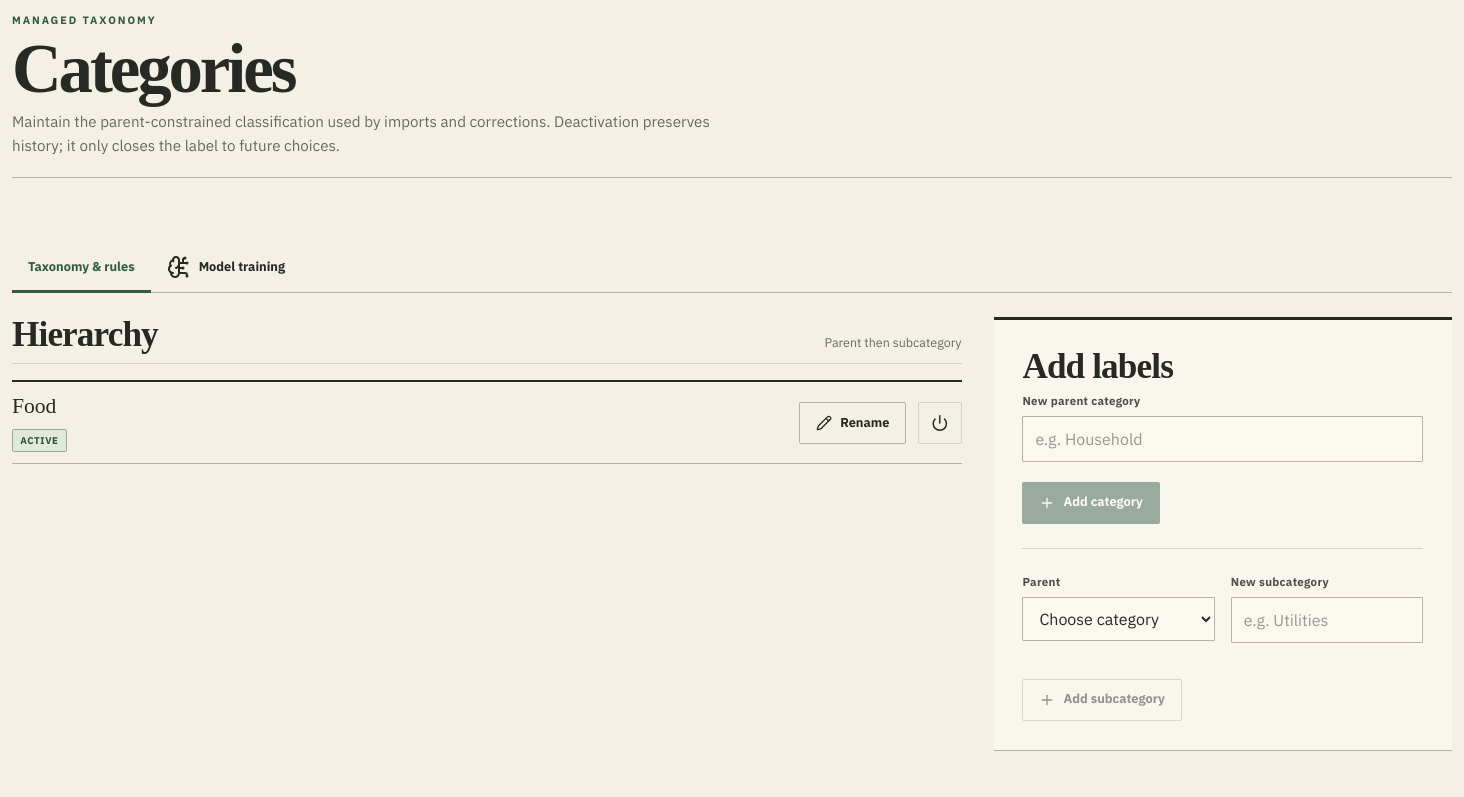
CategoriesPage failures › retains create drafts and rename state when requests fail
In the field labelled "New parent category": point(1223, 439) [1022,416,1423,462], type "Travel"
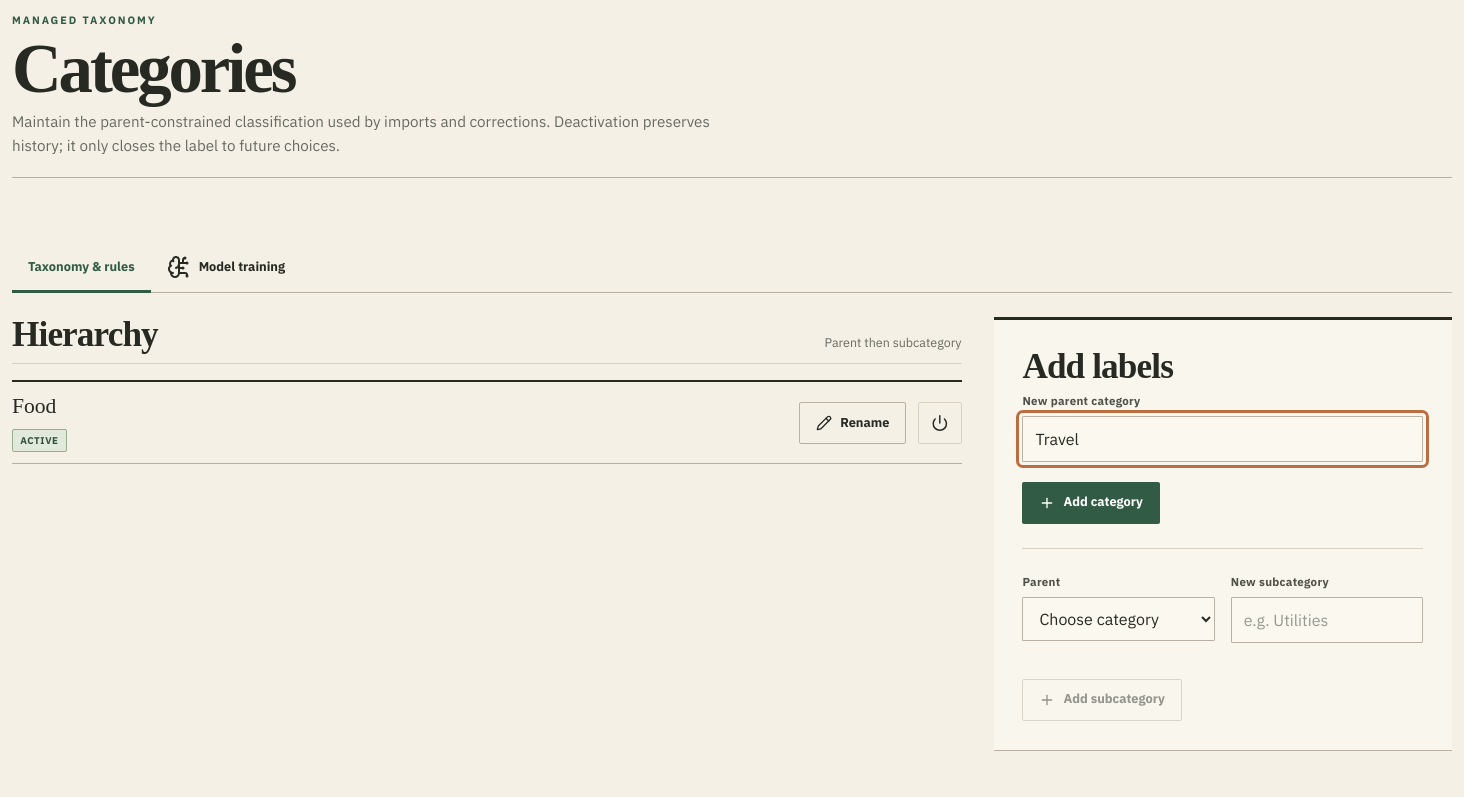
Click the button "Add category": point(1091, 503) [1022,482,1160,524]
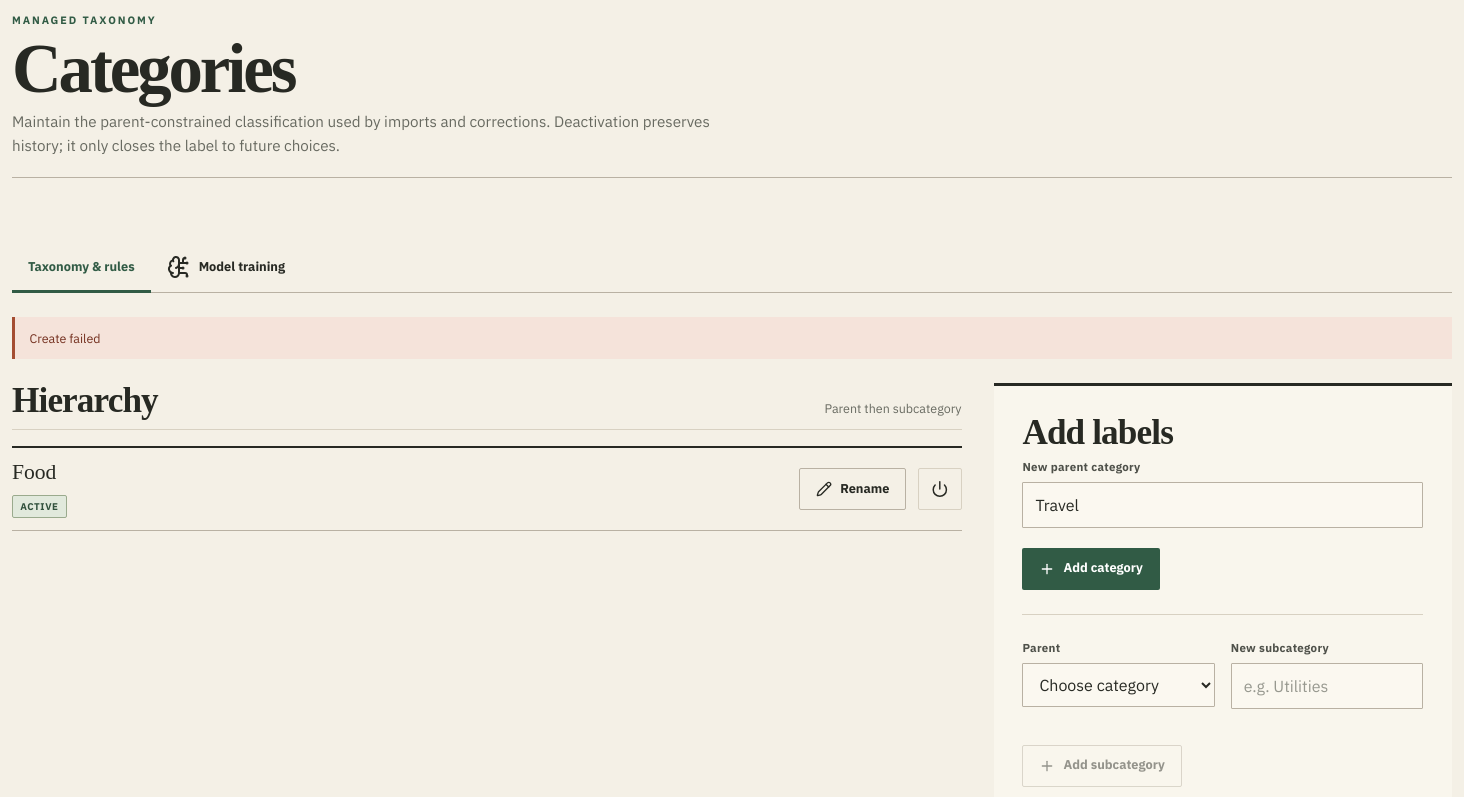
Now the text "Create failed" is shown, box [12,317,1452,359]
Click the button "Rename": point(853, 489) [799,468,906,510]
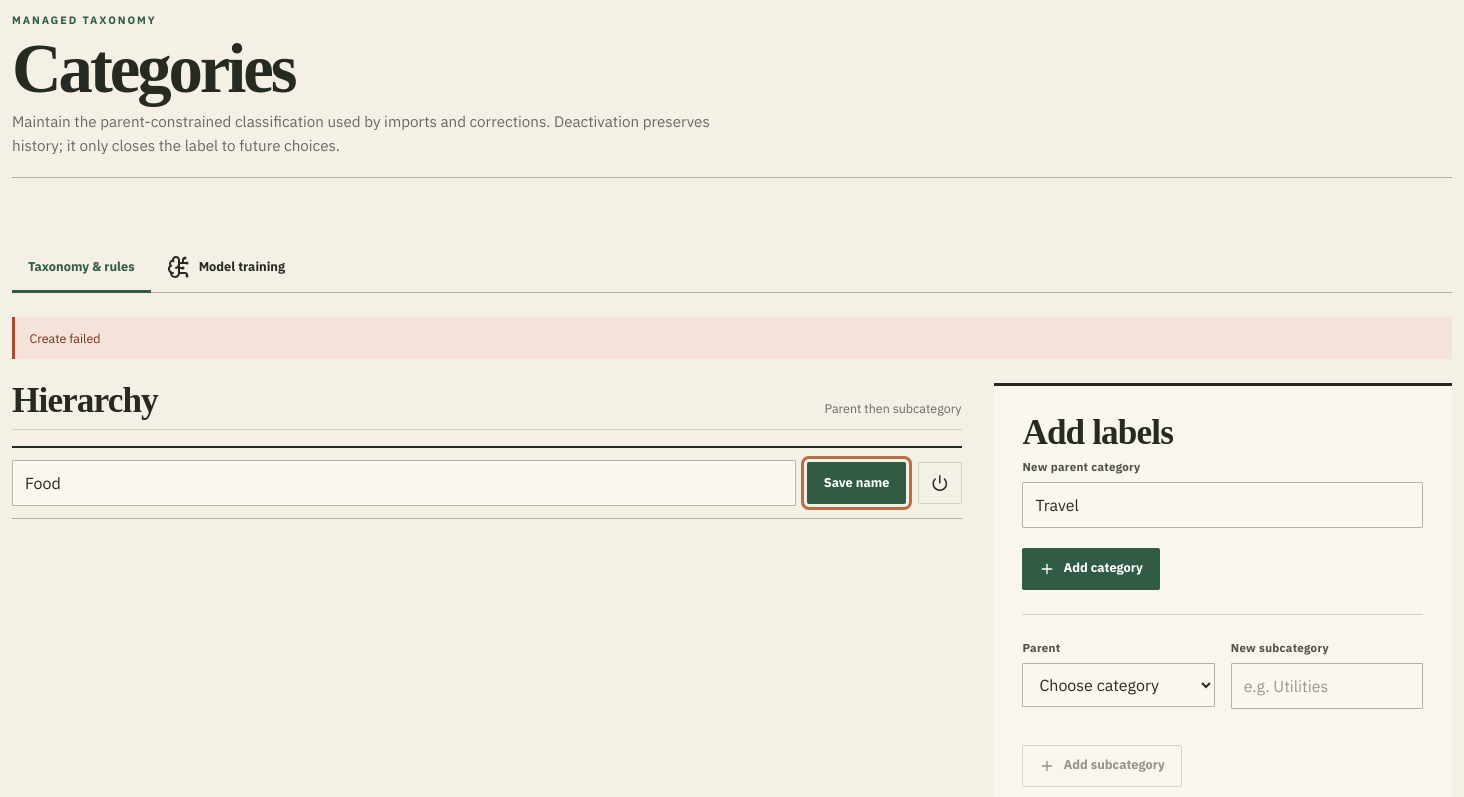
Replace the text in the field named "Rename Food" with "Dining": point(404, 483) [12,460,796,506]
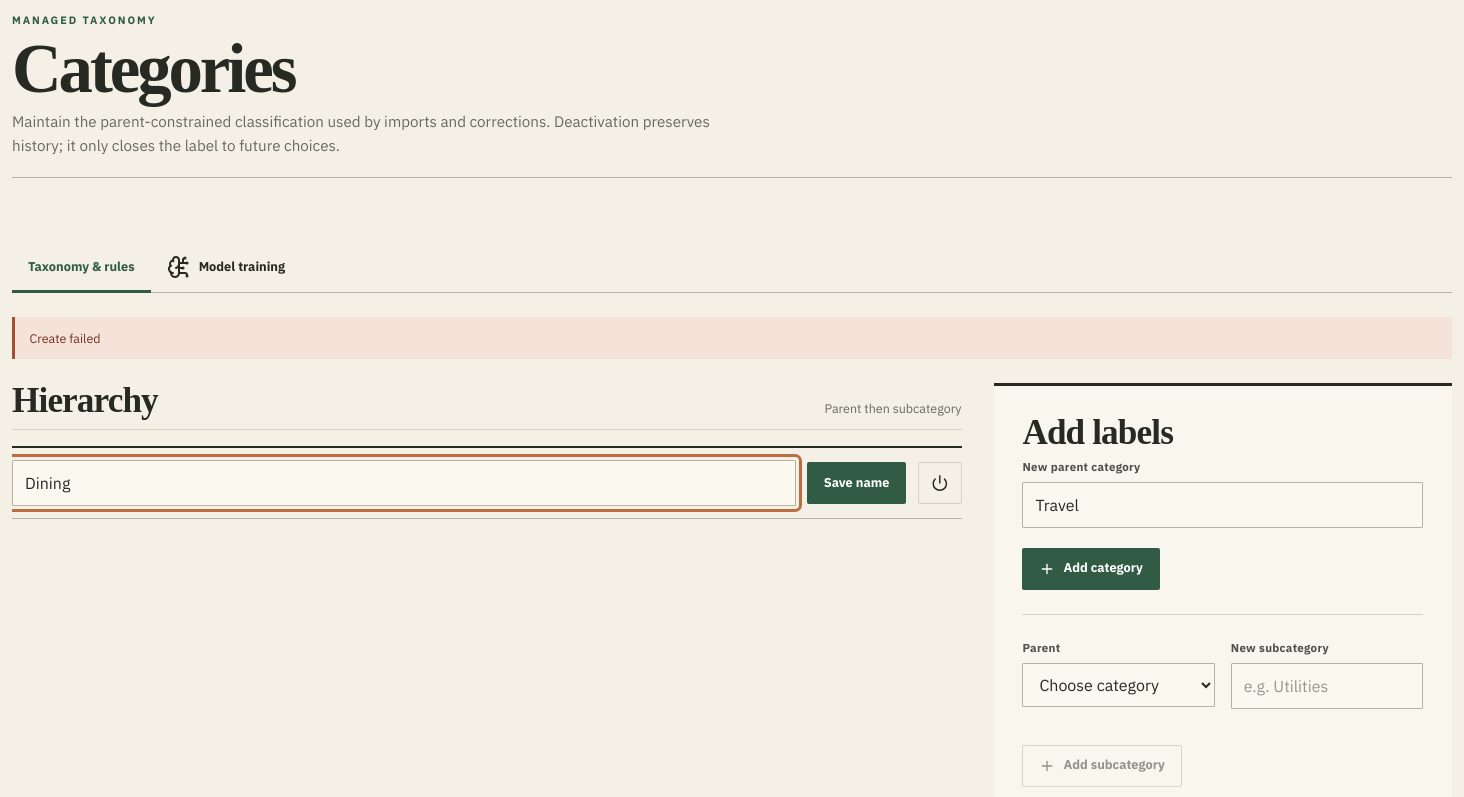
Click the button "Save name": point(857, 483) [807,462,906,504]
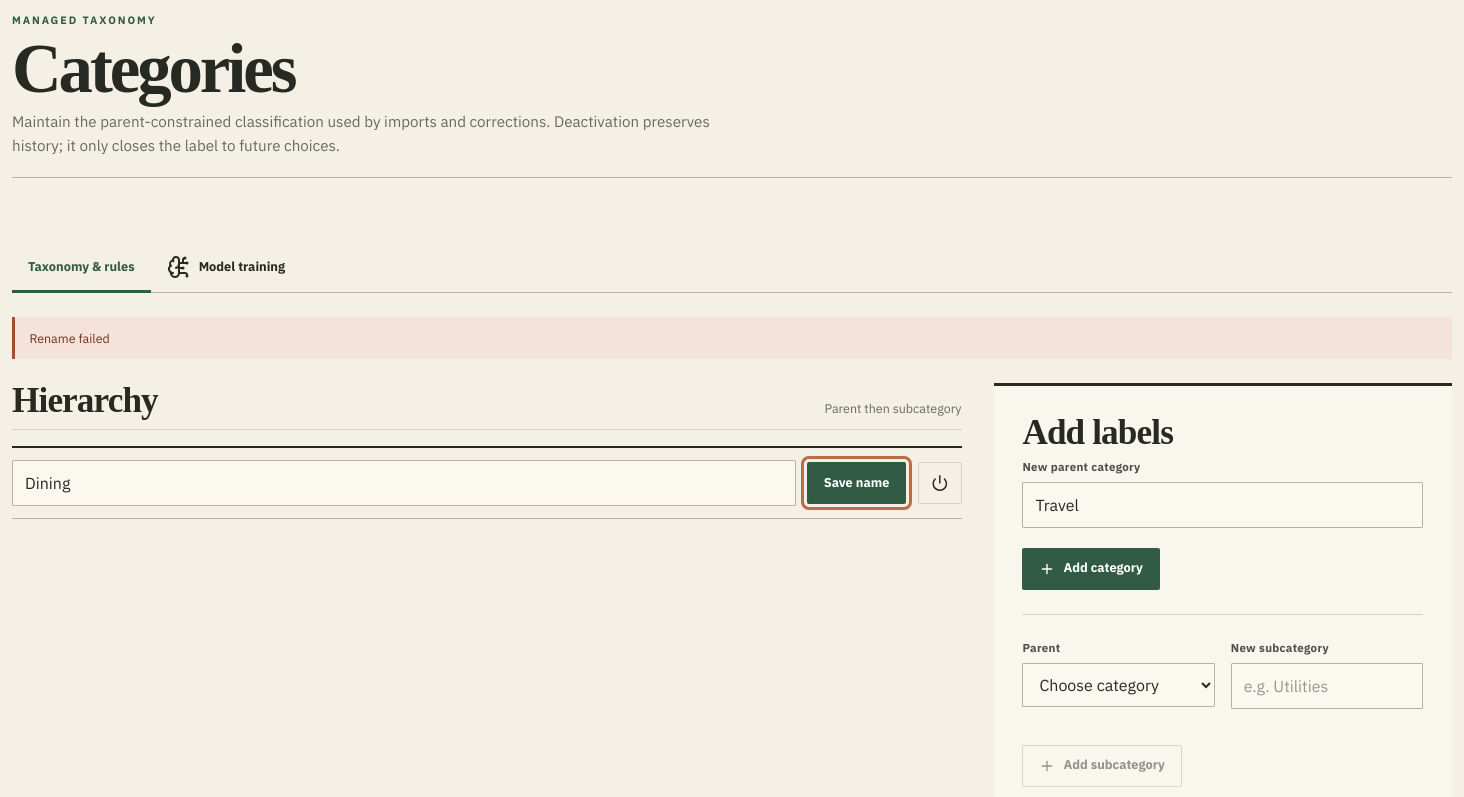
Now the text "Rename failed" is shown, box [12,317,1452,359]
